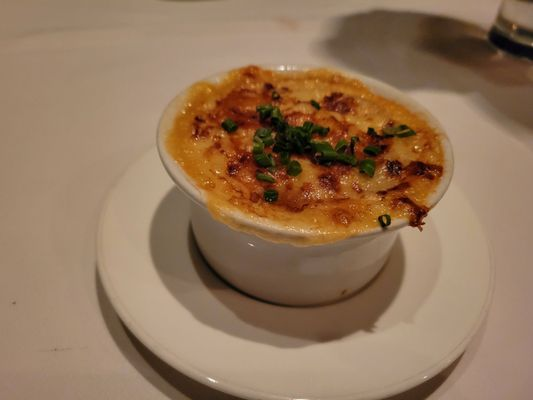pizza: (487, 0, 533, 61)
